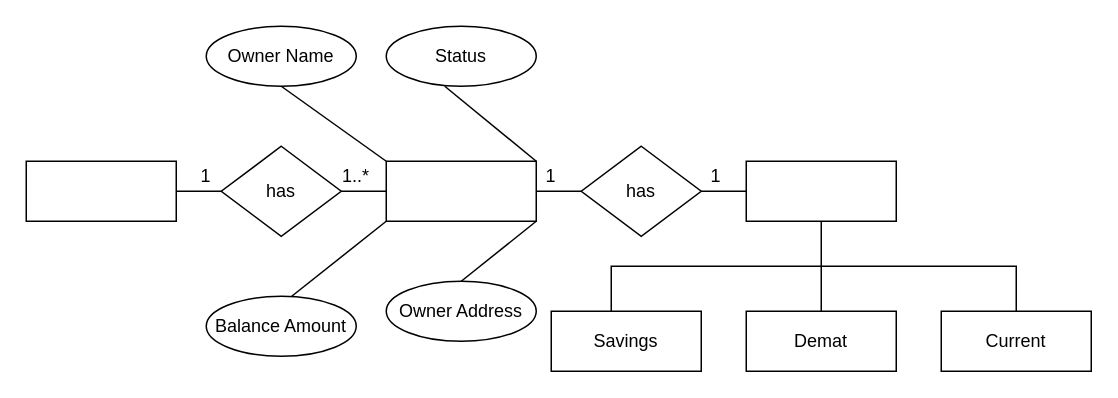
Some shapes in this 1118 by 398 pixel diagram are drawn without their labels. Each missing label, with the centre of its shape:
"Account" goes at pixel 460 190.
"Bank" goes at pixel 100 190.
"Type" goes at pixel 820 190.
